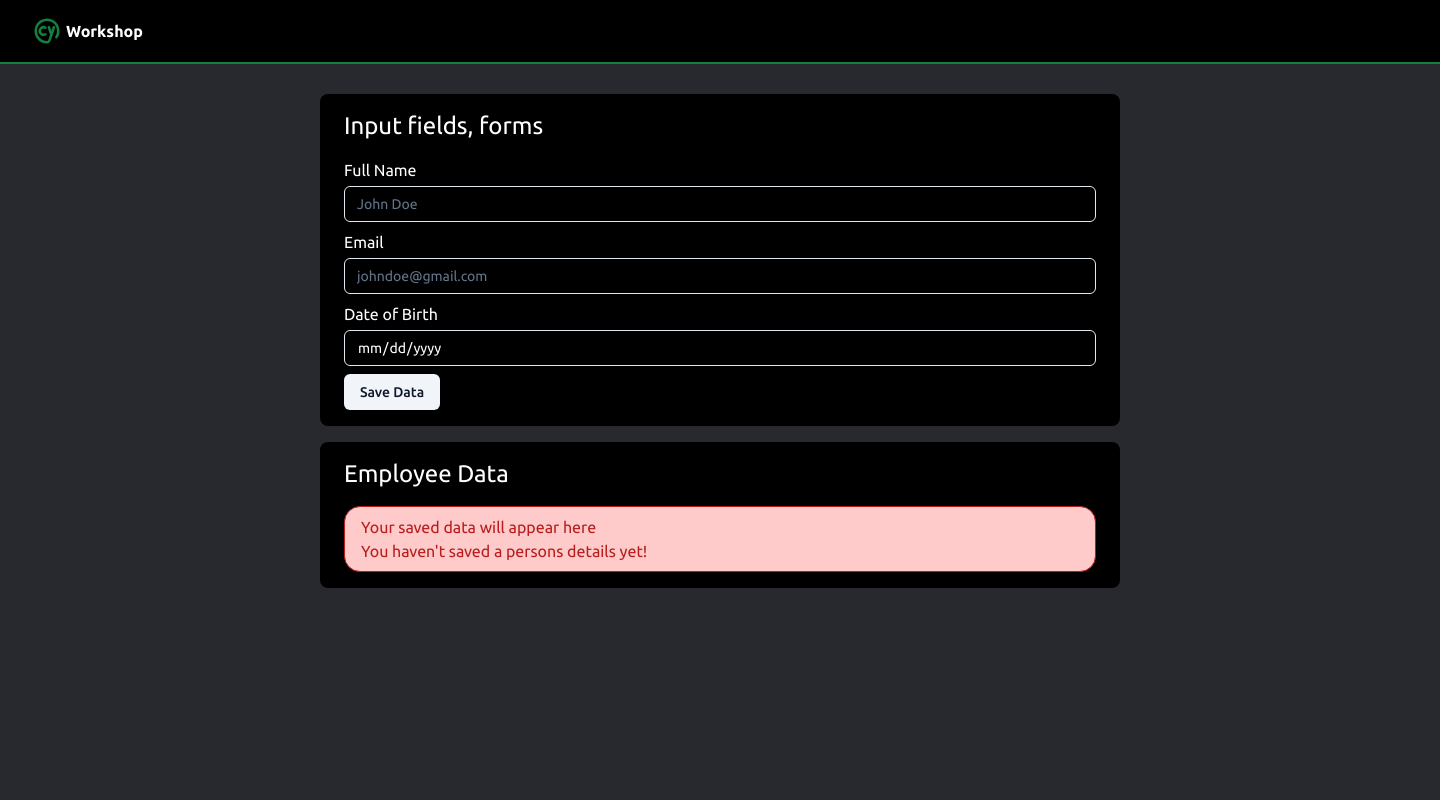
it: Learning path 2 › should fill the form
Type "David" into the field with test id "name-input" at (720, 204), box [344,186,1096,222]
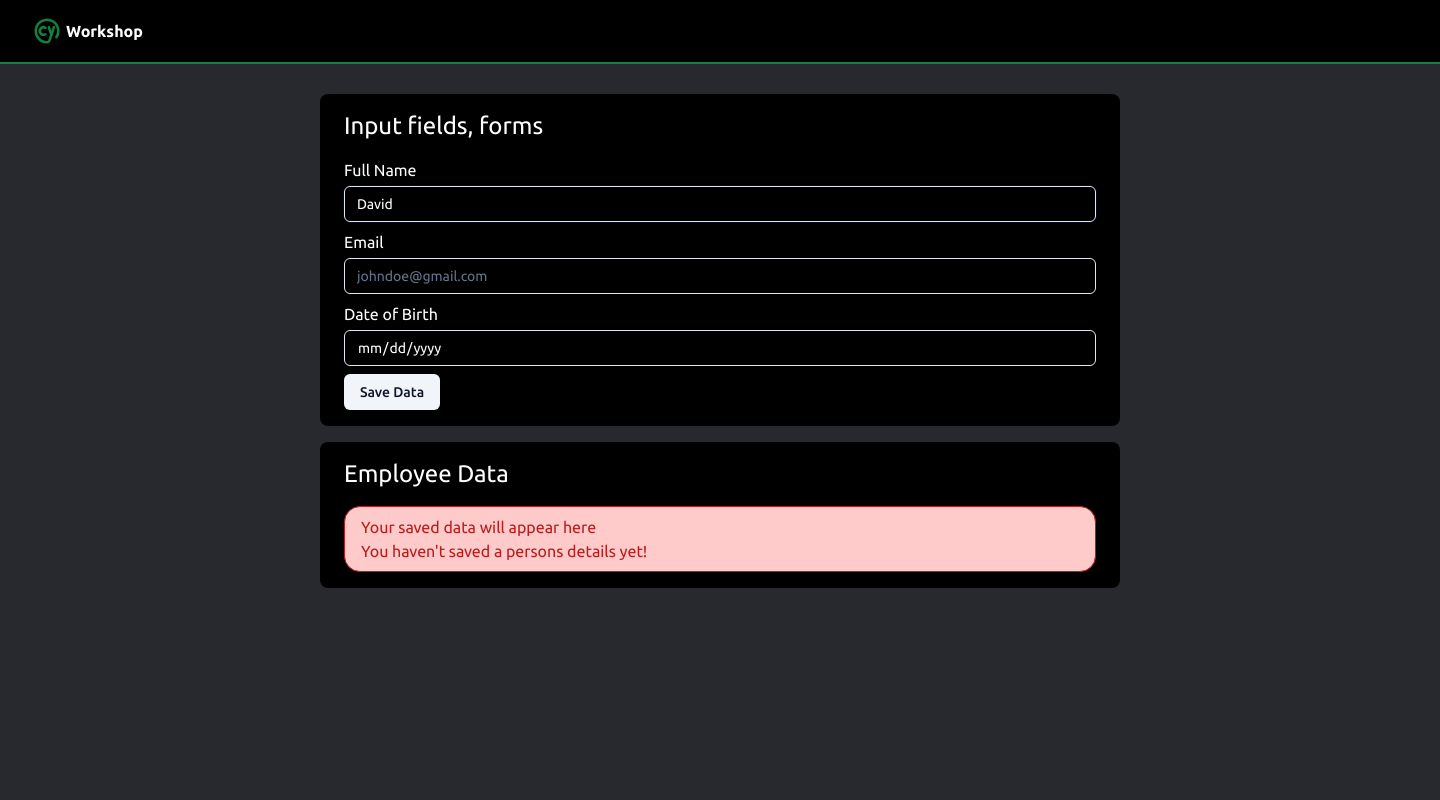
Type "david@email.com" into the field with test id "email-input" at (720, 276), box [344,258,1096,294]
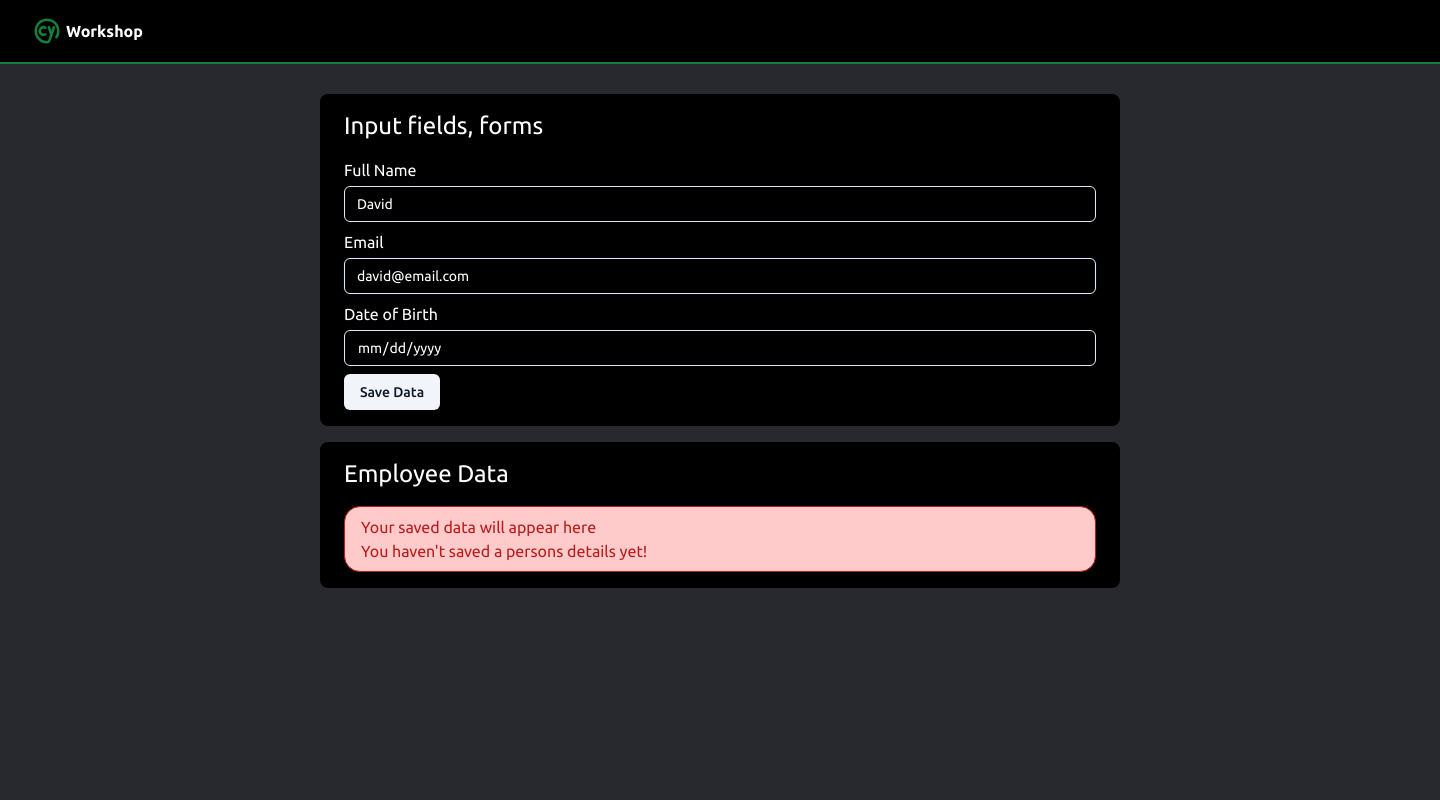
Type "1990-01-01" into the date field with test id "birth-input" at (720, 348), box [344,330,1096,366]
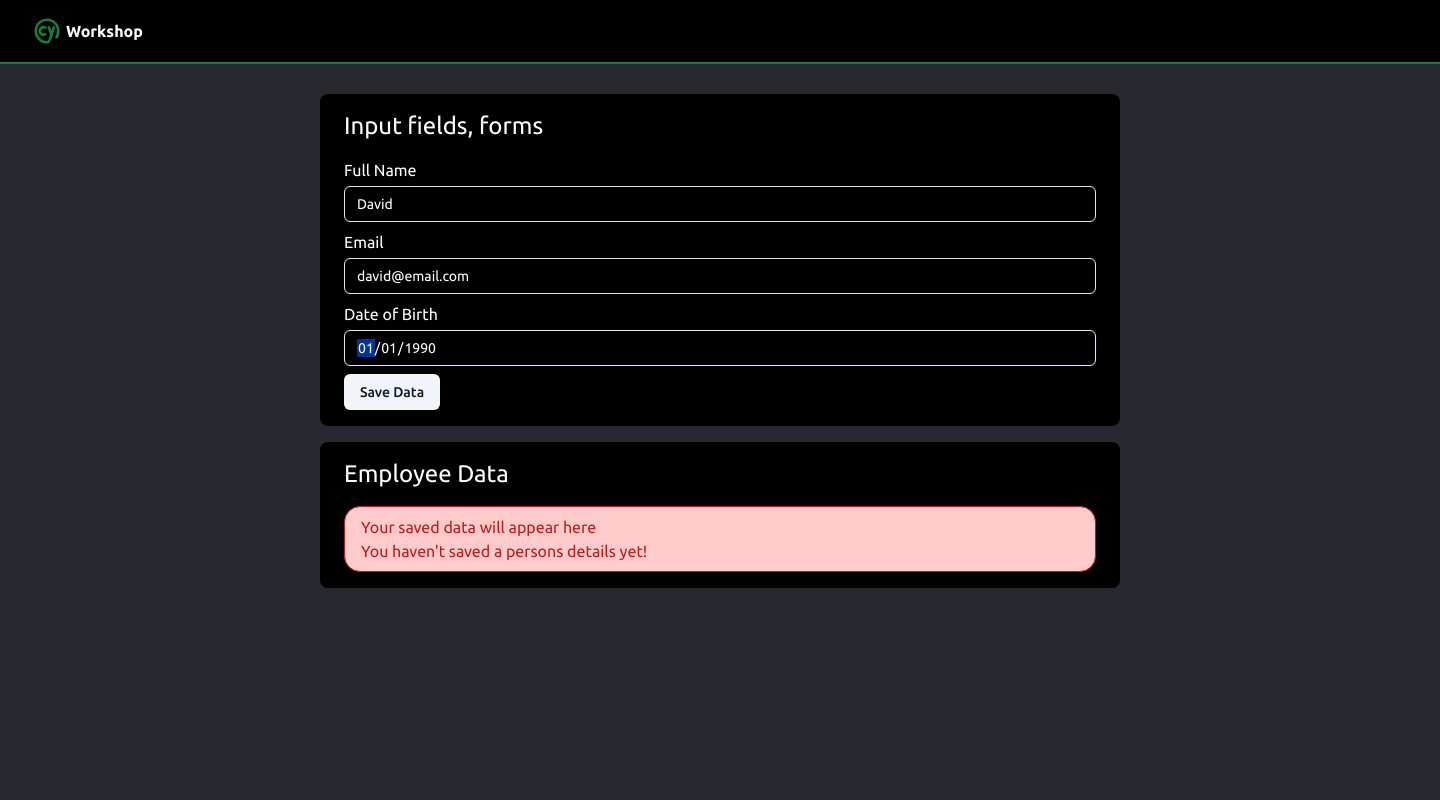
Click the button with test id "send-button" at (392, 392), box [344,374,440,410]
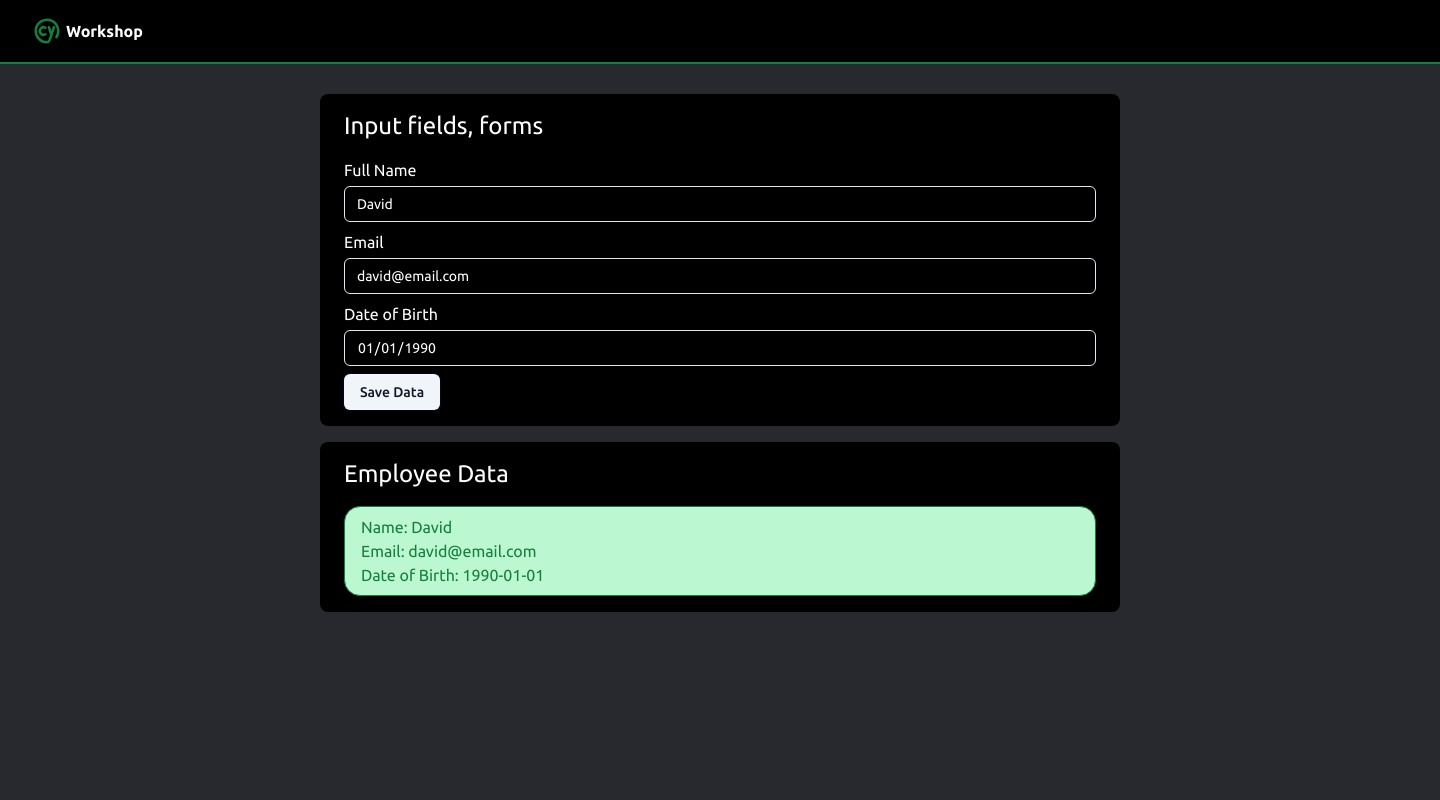
expect the element with test id "response" shows "David": met, box [320,442,1120,612]
expect the element with test id "response" shows "david@email.com": met, box [320,442,1120,612]
expect the element with test id "response" shows "1990-01-01": met, box [320,442,1120,612]
